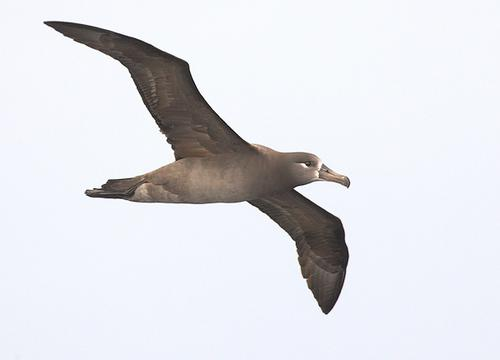001.Black_footed_Albatross: (44, 21, 350, 319)
